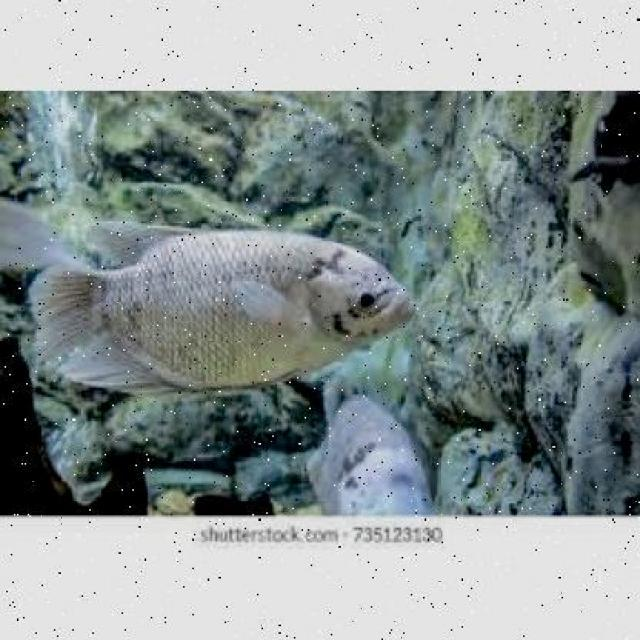gurame: (31, 225, 410, 398)
